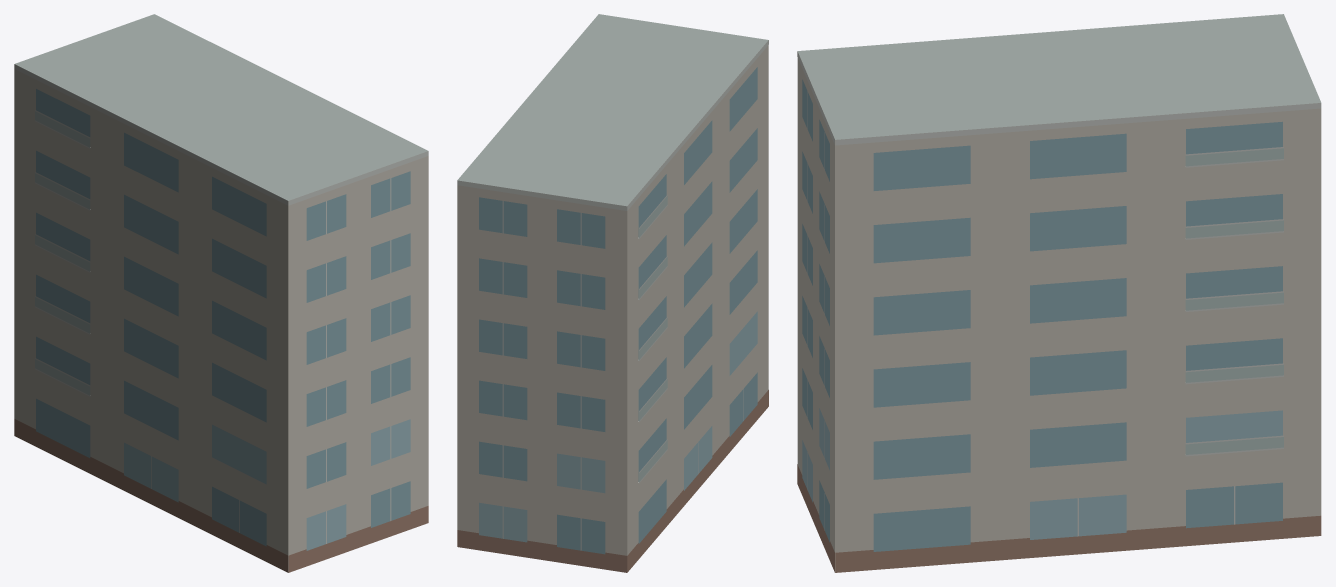
Rendered from survey-upis-32705920.glb.
3 renders of one model, left to right at view 1: azimuth 30°, elevation 25°; view 2: azimuth 150°, elevation 25°; view 3: azimuth 270°, elevation 25°, orthographic. The views are drawn at different scales.
Parts seen in each view (by area): view 1: survey-upis-32705920.tmp; view 2: survey-upis-32705920.tmp; view 3: survey-upis-32705920.tmp.
Part boxes in pixels (x1,y1,x2,y2): survey-upis-32705920.tmp: (14, 14, 428, 572); survey-upis-32705920.tmp: (457, 14, 768, 572); survey-upis-32705920.tmp: (797, 14, 1321, 572).
Bounding box in the file's own units: 11.73 × 18.8 × 20.63.
